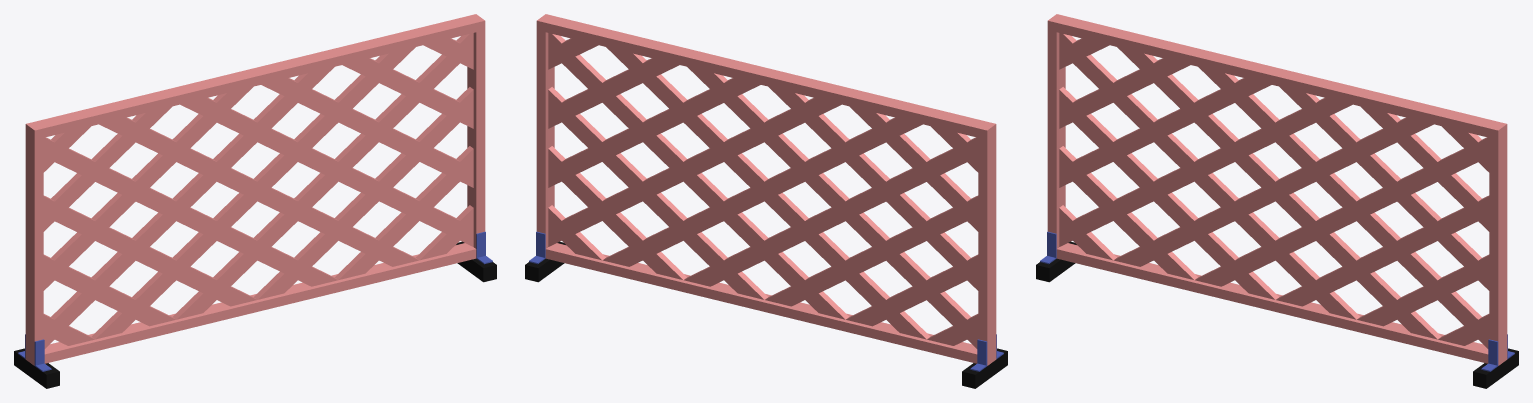
The model's file is WoodFance.FBX.
The picture shows the model from 3 angles, left to right: view 1: azimuth 30°, elevation 25°; view 2: azimuth 150°, elevation 25°; view 3: azimuth 330°, elevation 25°; orthographic projection.
Visible parts, largest first — view 1: Fance, Stone, Look; view 2: Fance, Stone, Look; view 3: Fance, Stone, Look.
Boxes of the visible parts, box(x1,y1,x2,y2) form: Fance: box(25, 14, 485, 365); Stone: box(14, 241, 496, 388); Look: box(18, 231, 492, 371); Fance: box(536, 14, 996, 365); Stone: box(525, 241, 1007, 388); Look: box(529, 231, 1003, 371); Fance: box(1047, 14, 1507, 365); Stone: box(1036, 241, 1518, 388); Look: box(1040, 231, 1514, 371).
Bounding box in the file's own units: 100 × 53 × 12.5.
